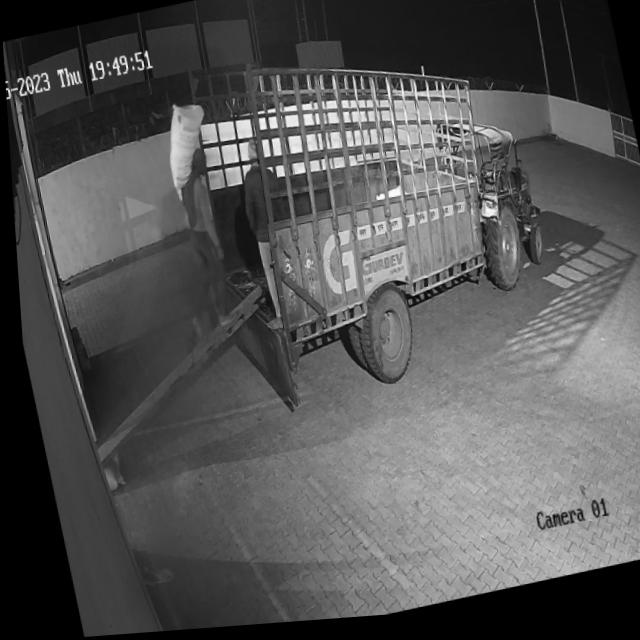sack: (155, 100, 218, 204)
